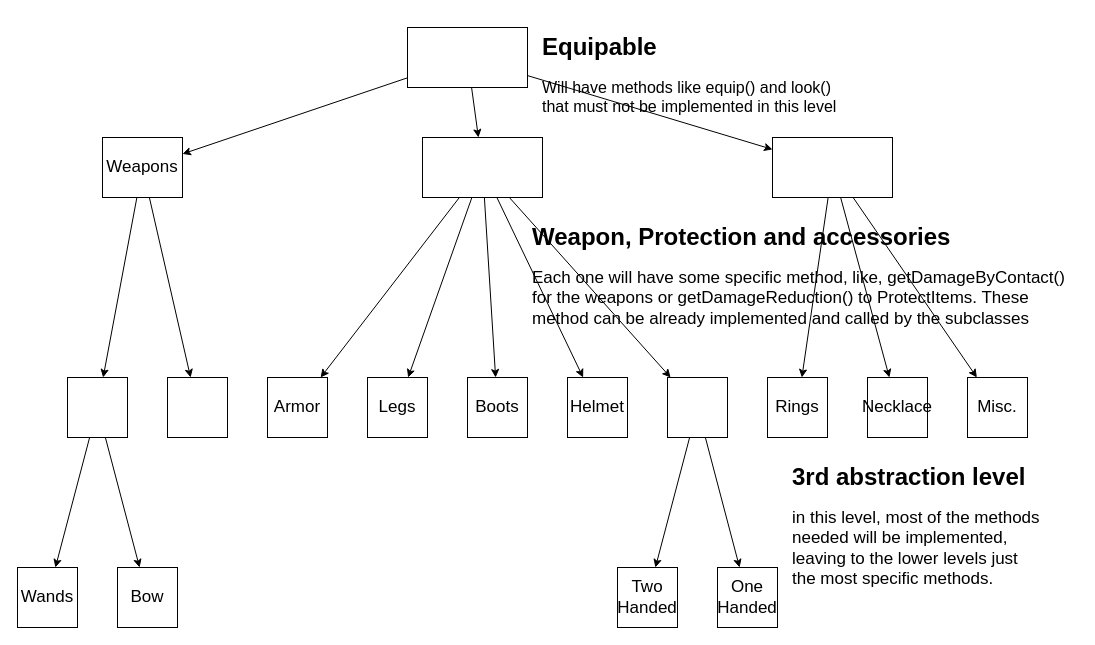
Image size: 1095x645. Some labels were removed from this diagram. The centre of each missing label's shape, as x and y in pixels:
Acessories: point 832,167
EquipableItems: point 467,57
Melee: point 197,407
Protection: point 482,167
Ranged: point 97,407
Shield: point 697,407
